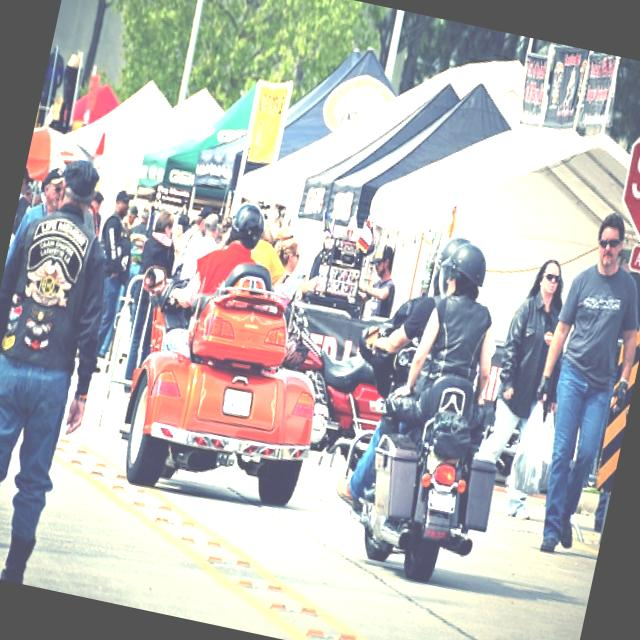Vehicle: (97, 240, 346, 523), (338, 361, 519, 593), (262, 305, 402, 476)
